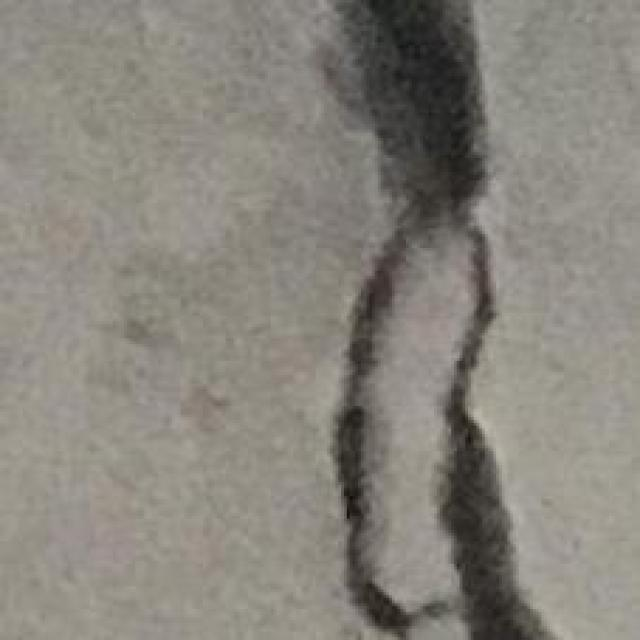Annular: (286, 0, 551, 640)
